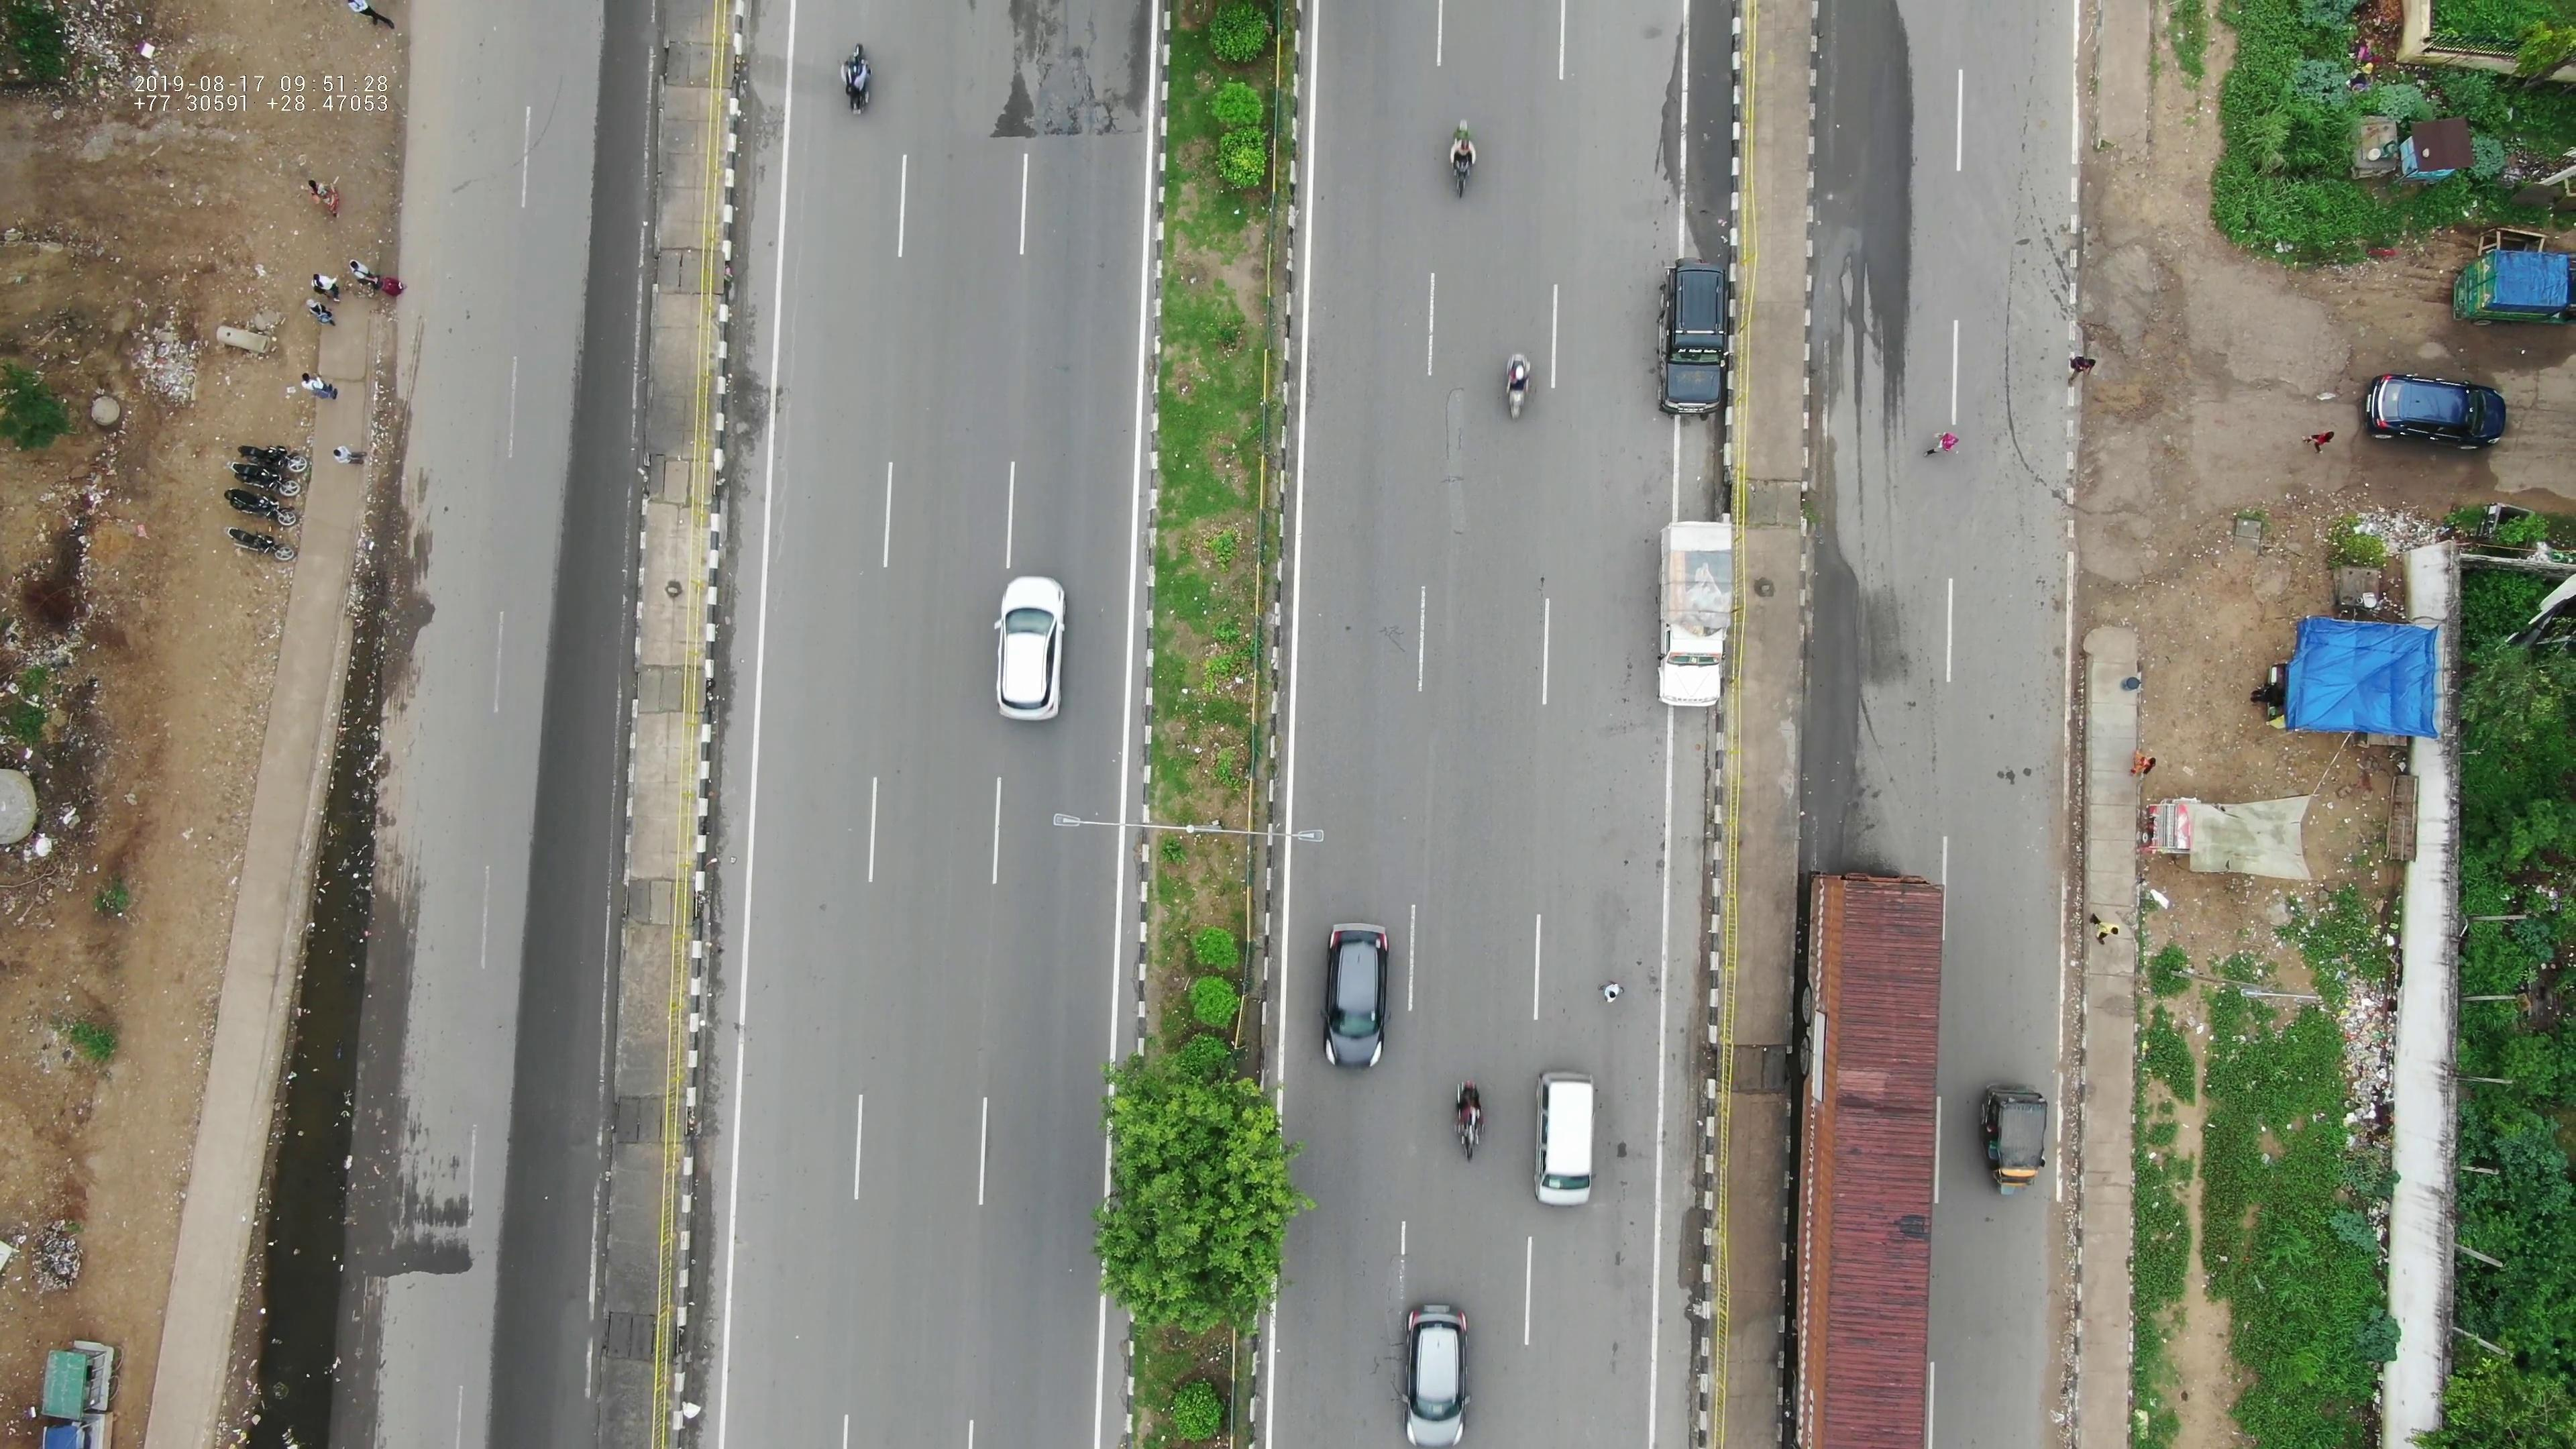Alligator_cracks: (1001, 4, 1150, 147)
Road_side_garbage: (2289, 941, 2429, 1175), (2312, 471, 2459, 557)
Waterlogging: (267, 570, 396, 1134), (246, 1141, 356, 1445)
